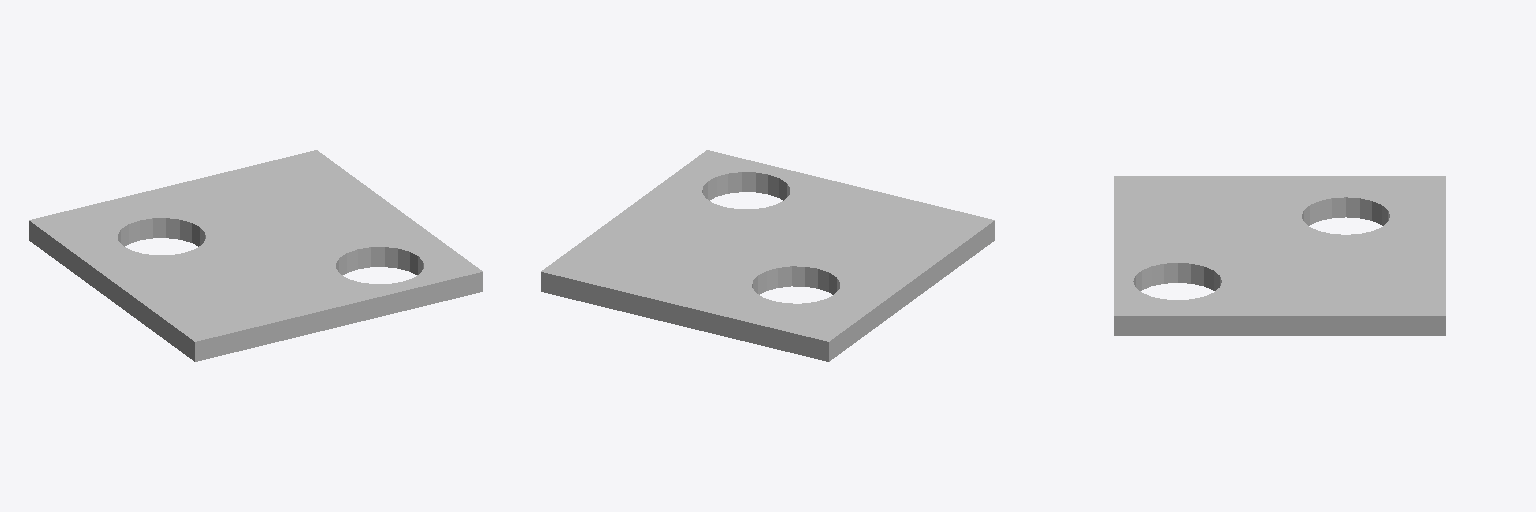
Rendered from planeHolesCircle.obj.
3 views of the same model, side by side, from view 1: azimuth 30°, elevation 25°; view 2: azimuth 150°, elevation 25°; view 3: azimuth 270°, elevation 25° (orthographic).
Visible parts, largest first — view 1: polySurface4; view 2: polySurface4; view 3: polySurface4.
Boxes of the visible parts, box(x1,y1,x2,y2) form: polySurface4: box(29, 150, 482, 361); polySurface4: box(541, 150, 994, 361); polySurface4: box(1114, 176, 1445, 335).
Bounding box in the file's own units: 15 × 1 × 15.